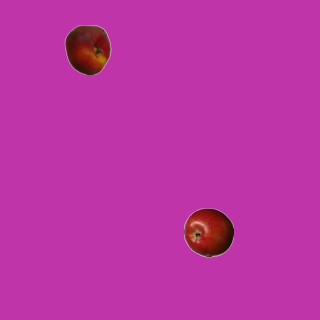Apple Braeburn: (183, 207, 233, 257)
Nectarine Flat: (62, 24, 112, 74)
